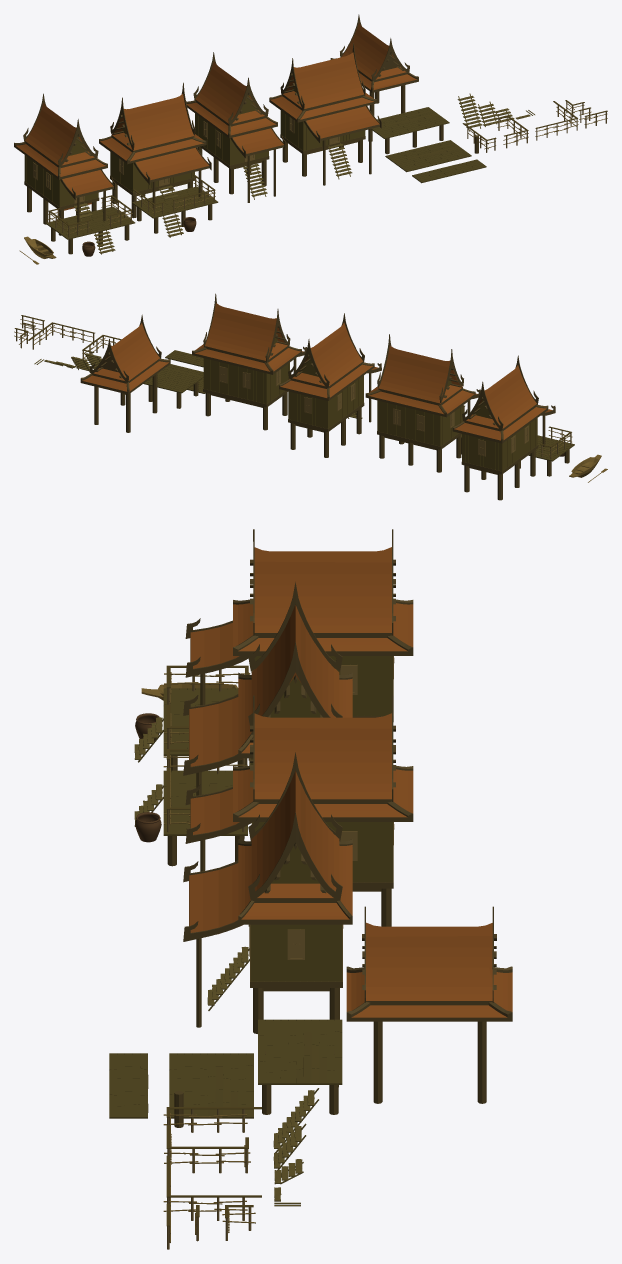
The model's file is Thai house.fbx.
The picture shows the model from 3 angles, top to bottom: view 1: azimuth 30°, elevation 25°; view 2: azimuth 150°, elevation 25°; view 3: azimuth 270°, elevation 25°; orthographic projection. The views are drawn at different scales.
Visible parts, largest first — view 1: House 2, House 1, House 4, House 3, pavilion, Plane.049, Plane.050, Plane.003, Cylinder.054, Plane.017, Plane.002, Plane.001 (+2 smaller); view 2: House 2, House 1, House 4, House 3, pavilion, Plane.049, Cylinder.054, Canoe, Plane.003, Plane.050; view 3: House 1, House 4, House 3, House 2, pavilion, Plane.049, Plane.050, Plane.003, Cylinder.056, Cylinder.054.
Part boxes in pixels (left/top/right/bottom): House 2: left=99, top=82, right=218, bottom=237; House 1: left=14, top=93, right=135, bottom=254; House 4: left=269, top=43, right=381, bottom=185; House 3: left=186, top=52, right=285, bottom=202; pavilion: left=330, top=14, right=418, bottom=115; Plane.049: left=368, top=107, right=449, bottom=154; Plane.050: left=385, top=140, right=471, bottom=172; Plane.003: left=412, top=159, right=486, bottom=183; Cylinder.054: left=535, top=101, right=578, bottom=140; Plane.017: left=457, top=93, right=482, bottom=131; Plane.002: left=327, top=143, right=352, bottom=179; Plane.001: left=243, top=162, right=267, bottom=199; House 2: left=365, top=334, right=480, bottom=472; House 1: left=452, top=355, right=574, bottom=500; House 4: left=192, top=293, right=306, bottom=430; House 3: left=279, top=313, right=381, bottom=457; pavilion: left=80, top=314, right=170, bottom=432; Plane.049: left=125, top=367, right=203, bottom=408; Cylinder.054: left=28, top=322, right=94, bottom=349; Canoe: left=569, top=454, right=601, bottom=477; Plane.003: left=165, top=350, right=203, bottom=367; Plane.050: left=166, top=364, right=205, bottom=393; House 1: left=134, top=529, right=413, bottom=770; House 4: left=183, top=752, right=352, bottom=1033; House 3: left=185, top=695, right=413, bottom=926; House 2: left=134, top=582, right=352, bottom=866; pavilion: left=346, top=906, right=512, bottom=1103; Plane.049: left=258, top=1019, right=342, bottom=1114; Plane.050: left=169, top=1053, right=253, bottom=1118; Plane.003: left=109, top=1053, right=148, bottom=1118; Cylinder.056: left=164, top=1125, right=250, bottom=1173; Cylinder.054: left=163, top=1155, right=261, bottom=1220.
Size of the model in its own units: 4513 by 858 by 1374.
